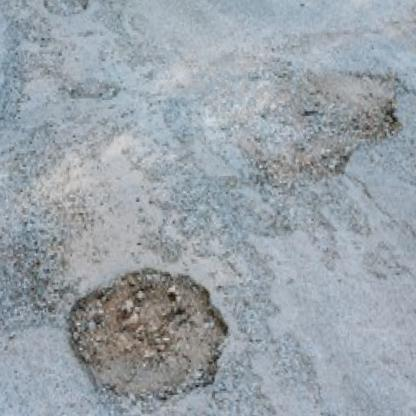pothole: (220, 62, 413, 205), (65, 262, 235, 412), (40, 0, 120, 22)
